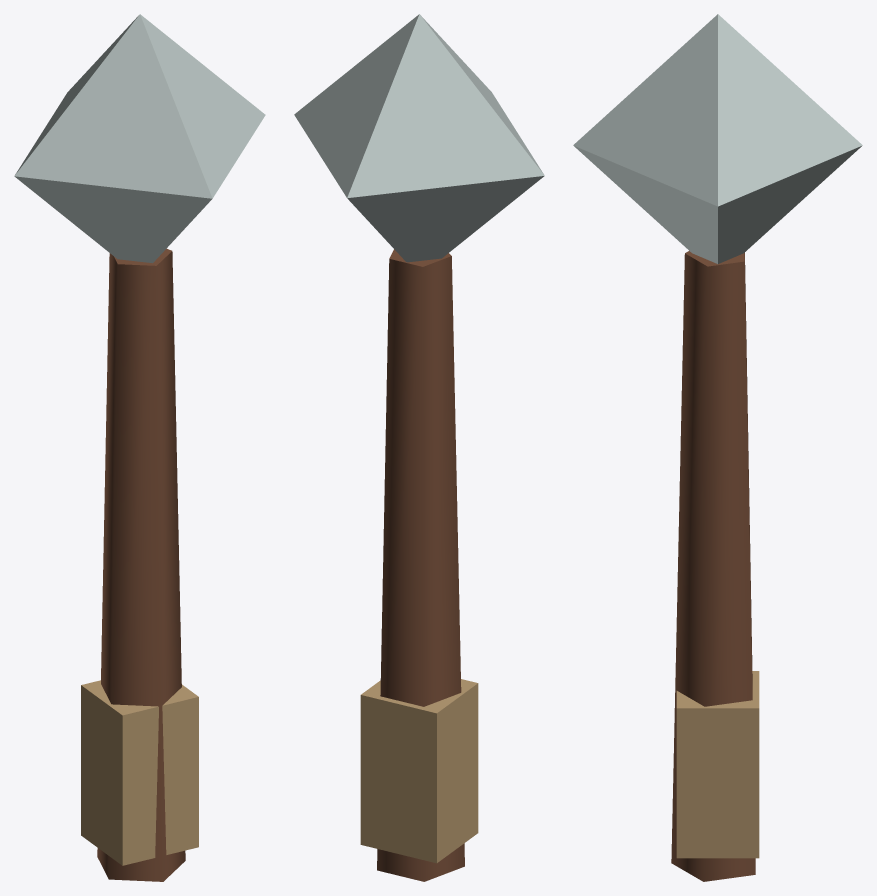
Rendered from wand-2-lod1.glb.
3 renders of one model, left to right at view 1: azimuth 30°, elevation 25°; view 2: azimuth 150°, elevation 25°; view 3: azimuth 270°, elevation 25°, orthographic.
Visible parts, largest first — view 1: piece_whole; view 2: piece_whole; view 3: piece_whole.
Part boxes in pixels (box(x1,y1,x2,y2)): piece_whole: box(14, 14, 265, 881); piece_whole: box(294, 14, 544, 881); piece_whole: box(573, 14, 862, 881).
Bounding box in the file's own units: 0.28 × 0.905 × 0.28.
